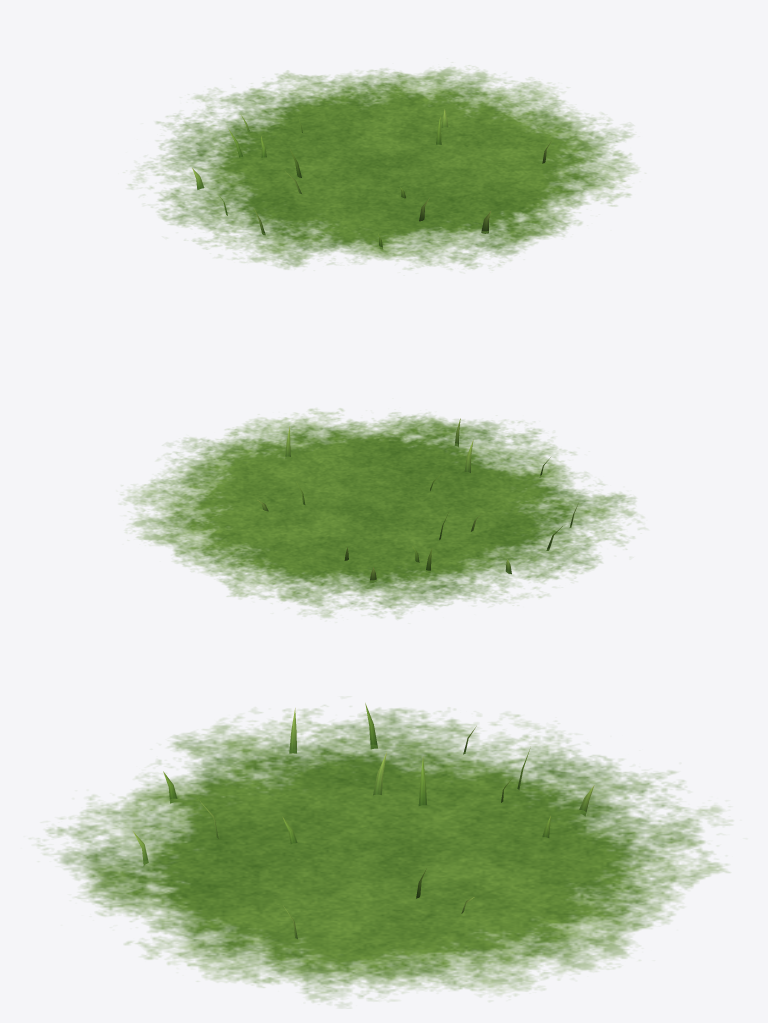
The model's file is cesped_nuevo.gltf.
3 renders of one model, top to bottom at view 1: azimuth 30°, elevation 25°; view 2: azimuth 150°, elevation 25°; view 3: azimuth 270°, elevation 25°, orthographic. The views are drawn at different scales.
Visible parts, largest first — view 1: cesped_nuevo; view 2: cesped_nuevo; view 3: cesped_nuevo.
Part boxes in pixels (x1,y1,x2,y2): cesped_nuevo: (128, 67, 637, 269); cesped_nuevo: (124, 408, 642, 618); cesped_nuevo: (38, 703, 729, 1005).
Bounding box in the file's own units: 2 × 0.1408 × 2.
Materials: 2 (2 with a texture image).
